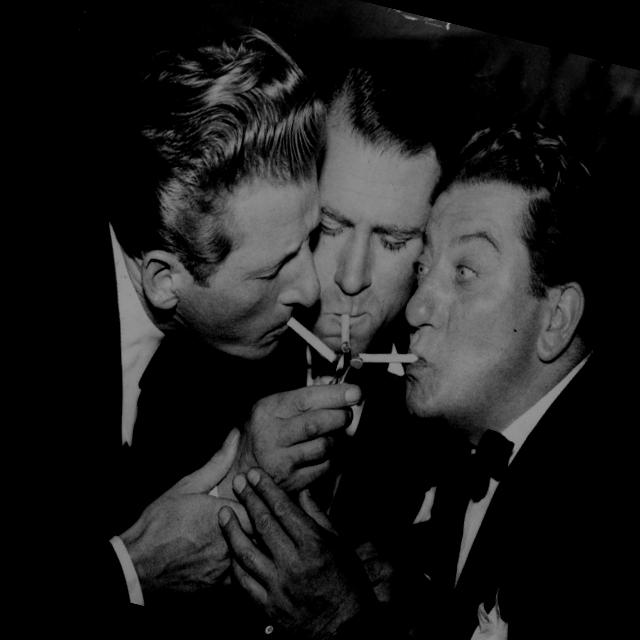cigarette: (253, 294, 428, 410)
